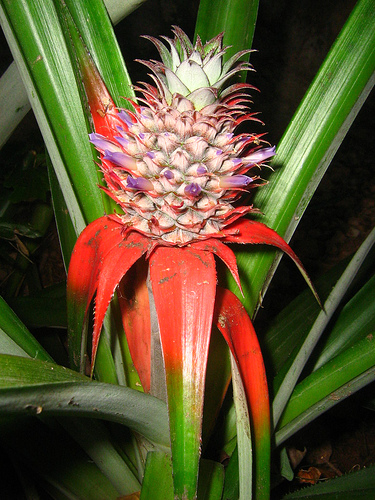pineapple: (87, 25, 277, 248)
